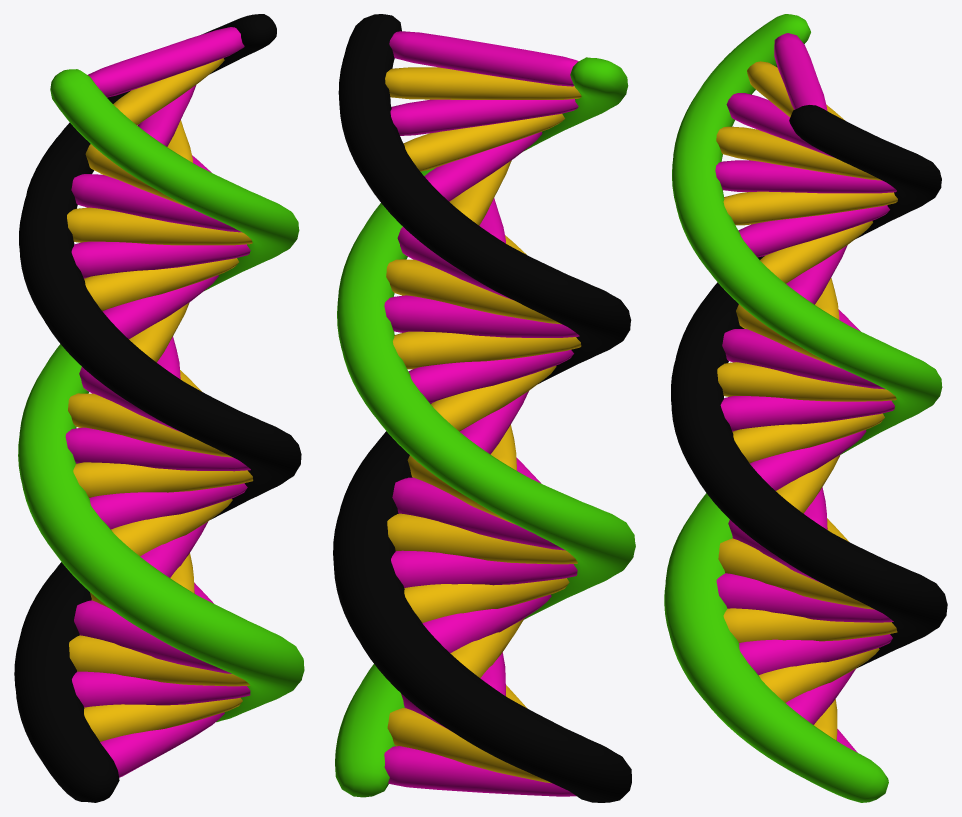
The model's file is DNAHelixToxic.fbx.
3 renders of one model, left to right at view 1: azimuth 30°, elevation 25°; view 2: azimuth 150°, elevation 25°; view 3: azimuth 270°, elevation 25°, orthographic. The views are drawn at different scales.
Parts seen in each view (by area): view 1: Cube_001; view 2: Cube_001; view 3: Cube_001.
Boxes of the visible parts, bbox=[...] form: Cube_001: bbox=[14, 14, 304, 802]; Cube_001: bbox=[333, 14, 635, 802]; Cube_001: bbox=[664, 14, 947, 802].
Size of the model in its own units: 2.17 by 5.97 by 2.2.
